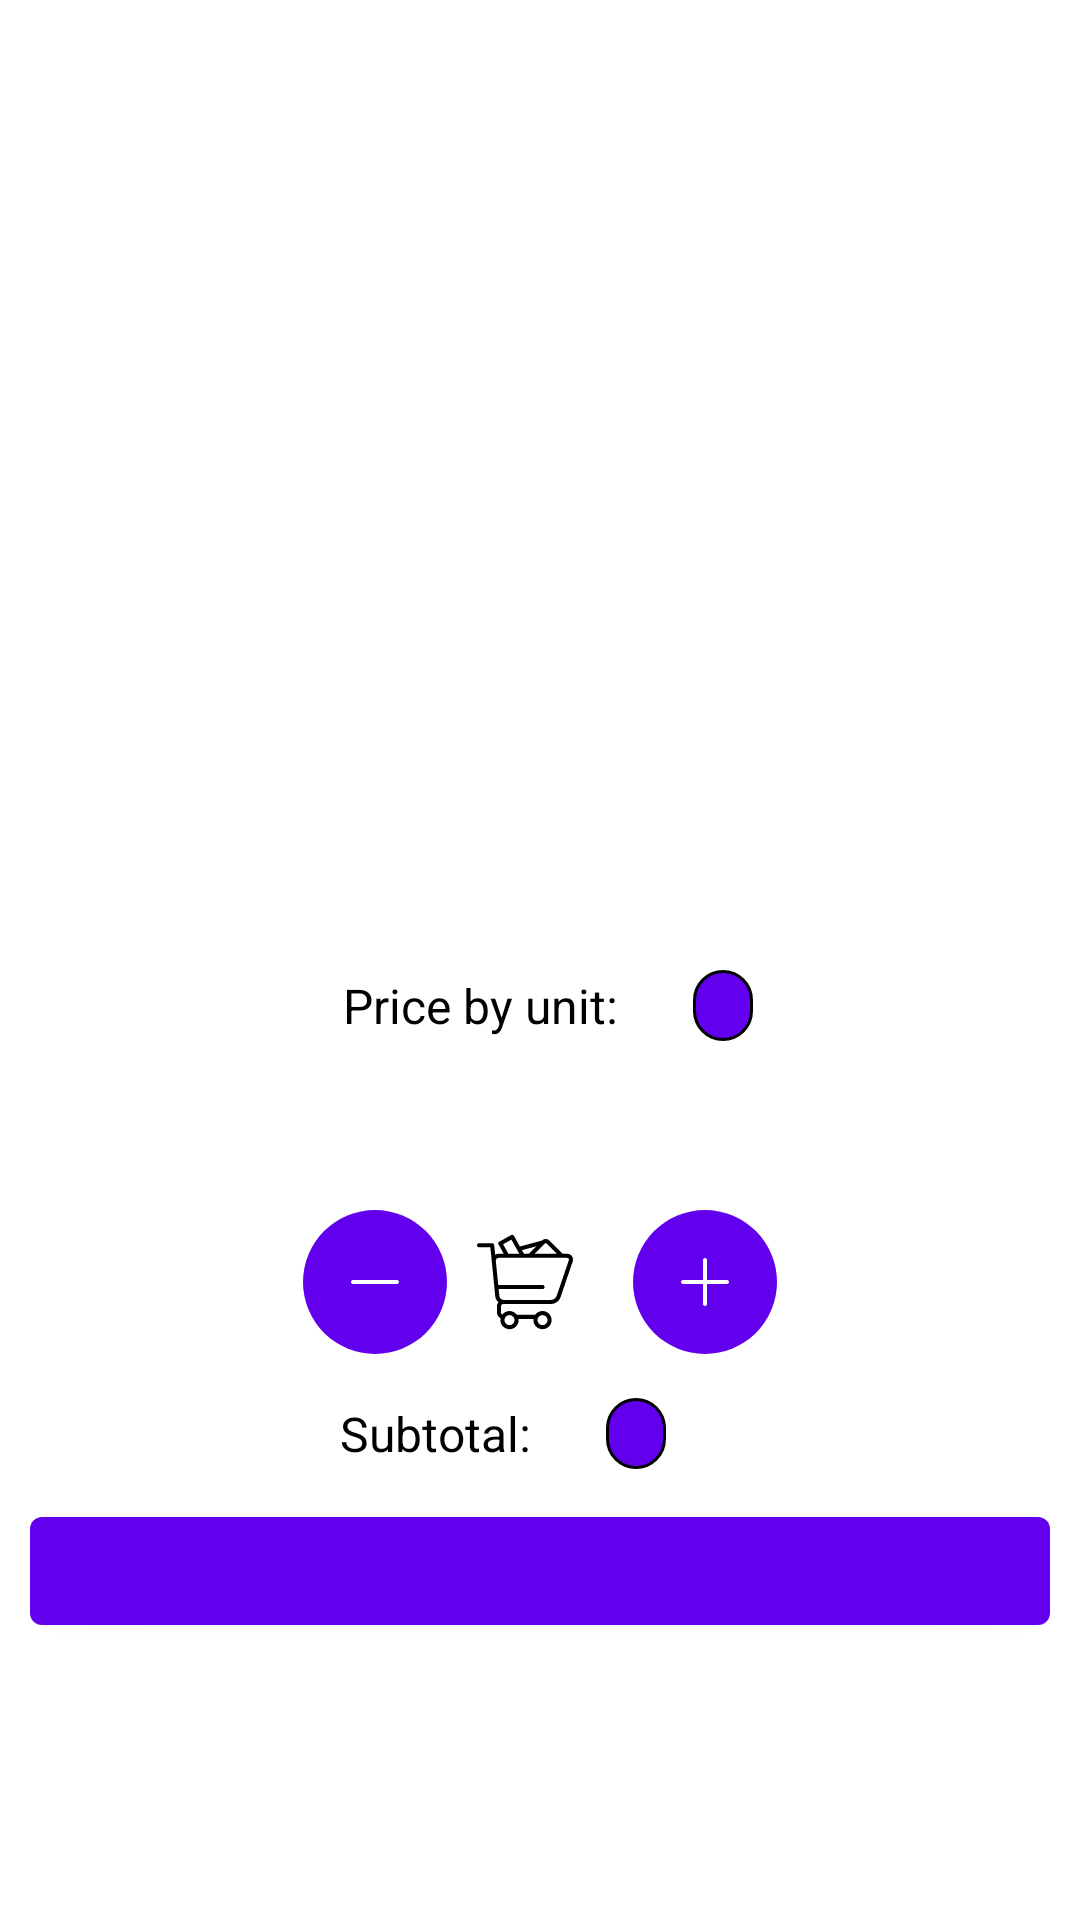

Named icons in this screenshot (1080px x 1920px) and their bounding boxes, (left=x1, top=y1, right=x2, bottom=y2):
add: (left=633, top=1210, right=777, bottom=1354)
cart: (left=477, top=1234, right=573, bottom=1330)
subtract: (left=303, top=1210, right=447, bottom=1354)
